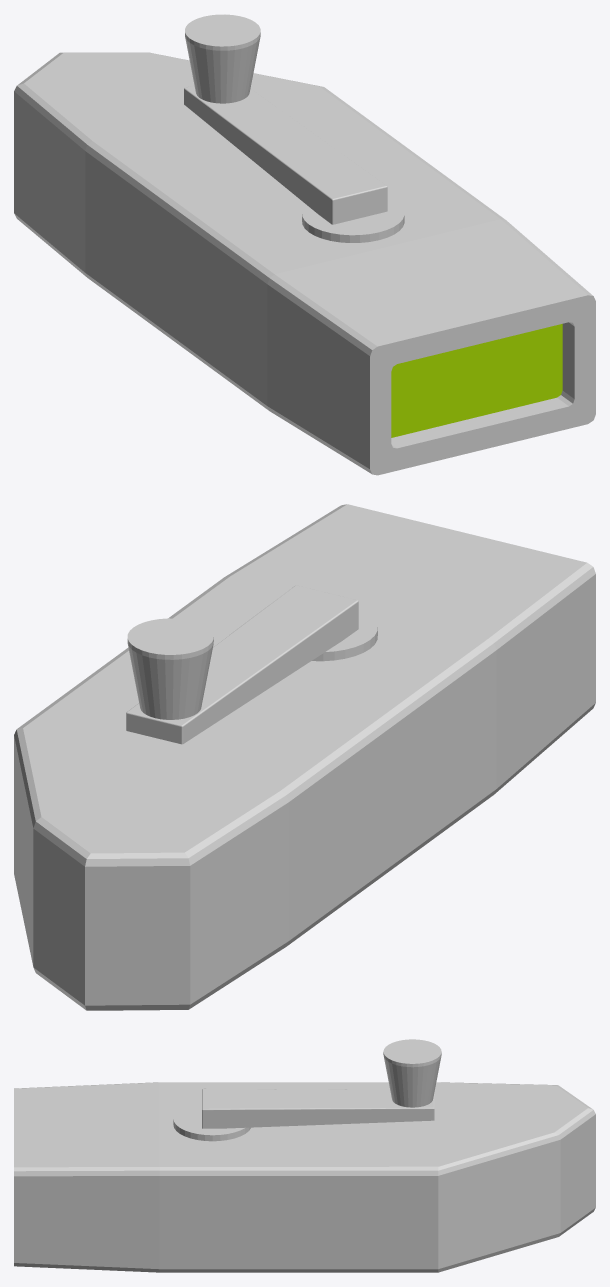
Rendered from CrankFlashlight.fbx.
3 renders of one model, top to bottom at view 1: azimuth 30°, elevation 25°; view 2: azimuth 150°, elevation 25°; view 3: azimuth 270°, elevation 25°, orthographic. The views are drawn at different scales.
Visible parts, largest first — view 1: Flashlight, Handle, Knob, HandleBase; view 2: Flashlight, Handle, Knob, HandleBase; view 3: Flashlight, Handle, Knob, HandleBase.
Boxes of the visible parts, bbox=[...] form: Flashlight: bbox=[14, 52, 595, 475]; Handle: bbox=[184, 85, 387, 224]; Knob: bbox=[185, 14, 260, 103]; HandleBase: bbox=[302, 198, 404, 242]; Flashlight: bbox=[14, 504, 595, 1010]; Handle: bbox=[126, 585, 358, 744]; Knob: bbox=[127, 618, 213, 719]; HandleBase: bbox=[312, 609, 377, 661]; Flashlight: bbox=[14, 1082, 595, 1272]; Handle: bbox=[202, 1088, 434, 1128]; Knob: bbox=[383, 1039, 441, 1107]; HandleBase: bbox=[173, 1102, 250, 1141].
Size of the model in its own units: 0.11 by 0.1015 by 0.3.
